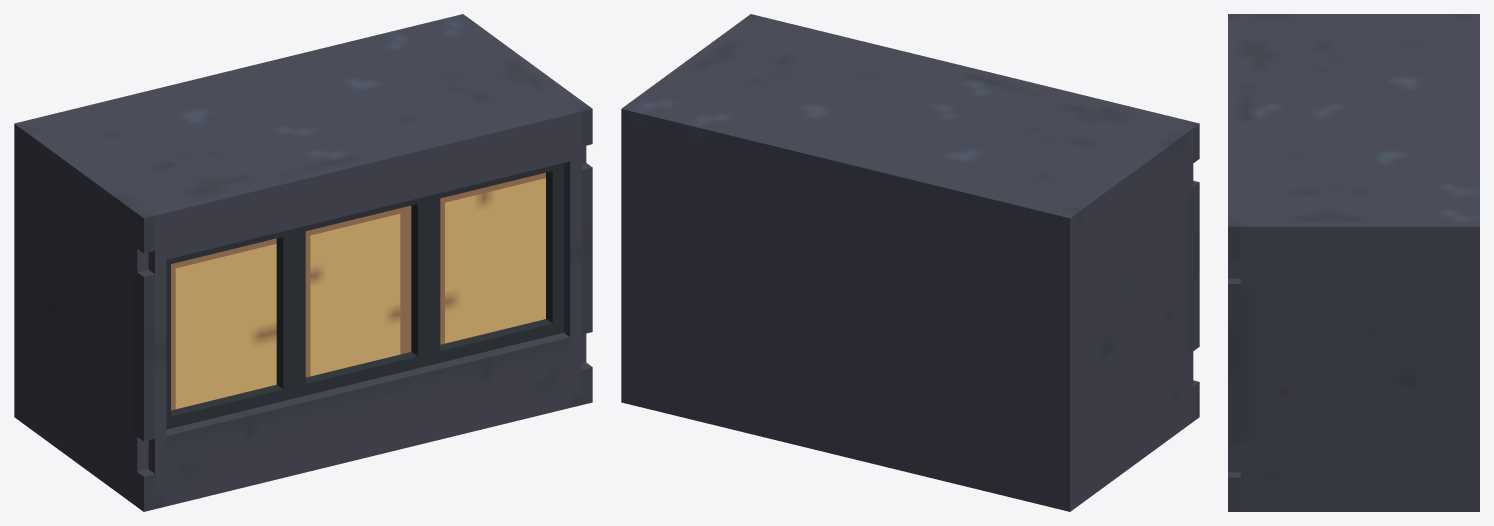
The model's file is BuildingBlock-17.fbx.
The picture shows the model from 3 angles, left to right: view 1: azimuth 30°, elevation 25°; view 2: azimuth 150°, elevation 25°; view 3: azimuth 270°, elevation 25°; orthographic projection. The views are drawn at different scales.
Visible parts, largest first — view 1: BuildingBlock_17; view 2: BuildingBlock_17; view 3: BuildingBlock_17.
Boxes of the visible parts, x1=… form: BuildingBlock_17: x1=14, y1=14, x2=592, y2=511; BuildingBlock_17: x1=621, y1=14, x2=1199, y2=511; BuildingBlock_17: x1=1228, y1=14, x2=1479, y2=511.
Size of the model in its own units: 400 by 250 by 200.
Materials: 2 (2 with a texture image).
